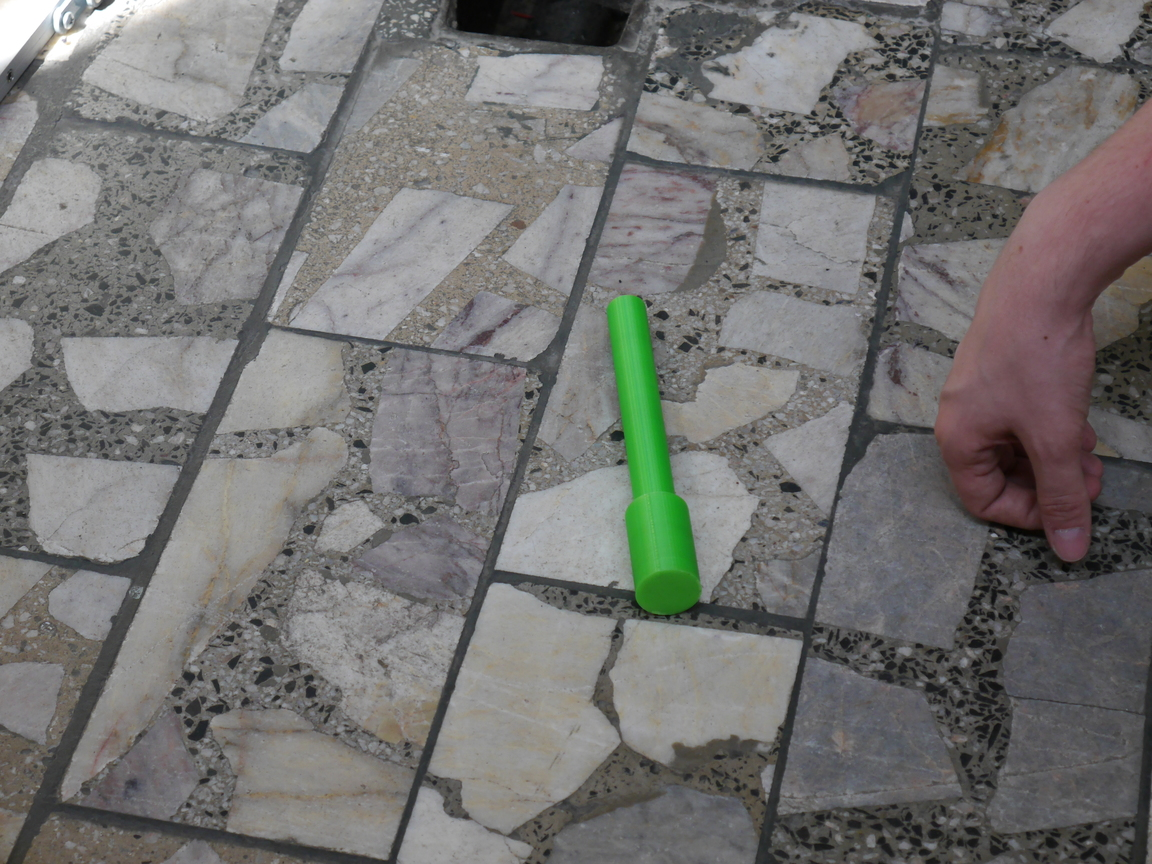cargo_g: (603, 295, 701, 618)
